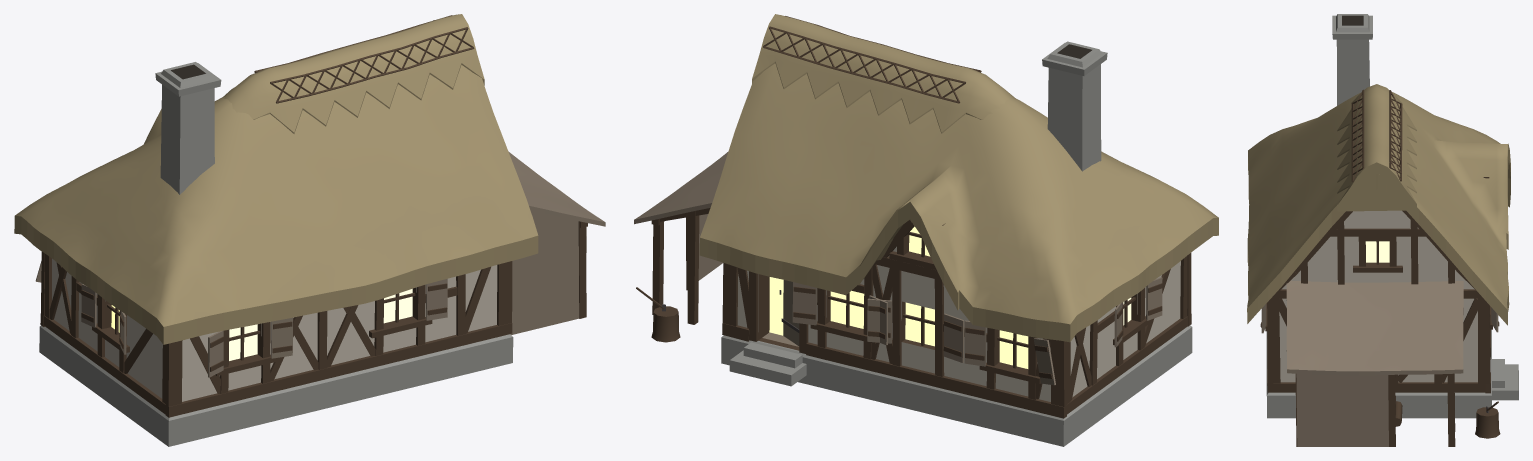
The model's file is house_b.glb.
3 views of the same model, side by side, from view 1: azimuth 30°, elevation 25°; view 2: azimuth 150°, elevation 25°; view 3: azimuth 270°, elevation 25° (orthographic). The views are drawn at different scales.
Visible parts, largest first — view 1: house_b, window_6, window_7; view 2: house_b, window_2, window_3, window_1, window_4; view 3: house_b, window_9.
Part boxes in pixels (<box>): house_b: <box>14,14,605,446</box>; window_6: <box>229,324,257,360</box>; window_7: <box>383,289,412,323</box>; house_b: <box>634,14,1218,446</box>; window_2: <box>830,290,864,328</box>; window_3: <box>905,302,934,346</box>; window_1: <box>769,277,783,335</box>; window_4: <box>999,330,1028,368</box>; house_b: <box>1247,14,1518,446</box>; window_9: <box>1365,241,1389,262</box>.
Size of the model in its own units: 10.88 by 7.15 by 6.28.
